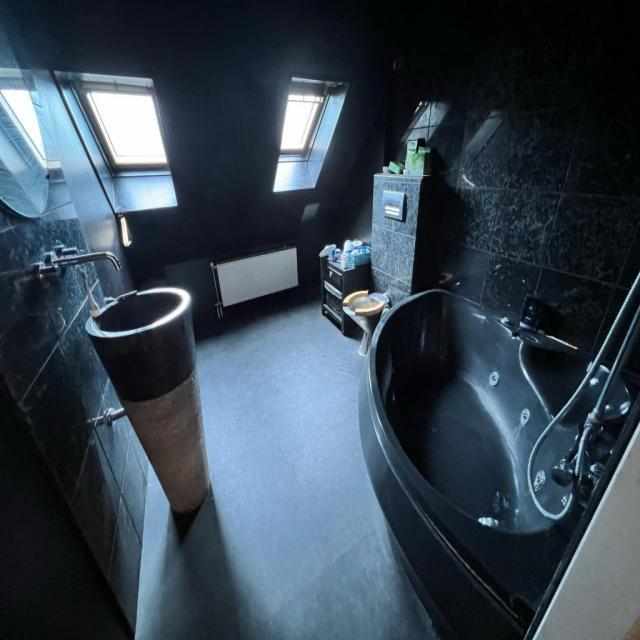bath: (358, 282, 640, 640)
toilet: (342, 191, 408, 356)
wastafel: (32, 240, 210, 516)
